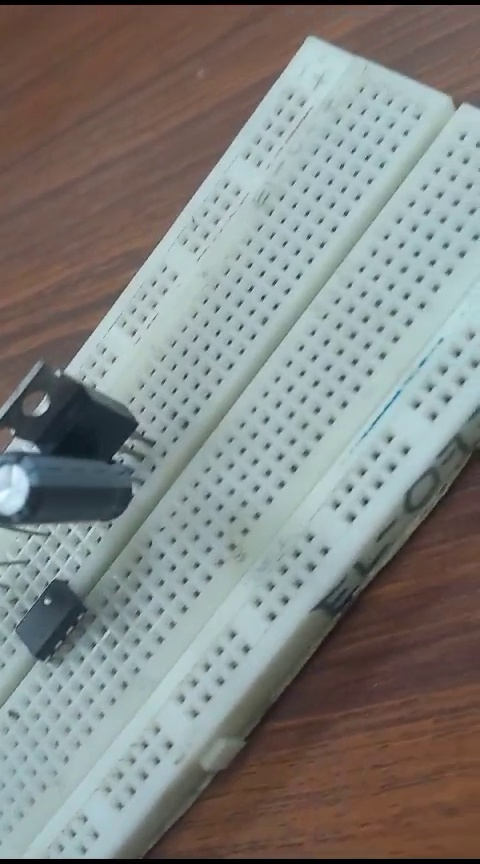IC: (4, 581, 103, 652)
capacitor: (2, 447, 147, 533)
voltage regulator: (3, 343, 152, 459)
